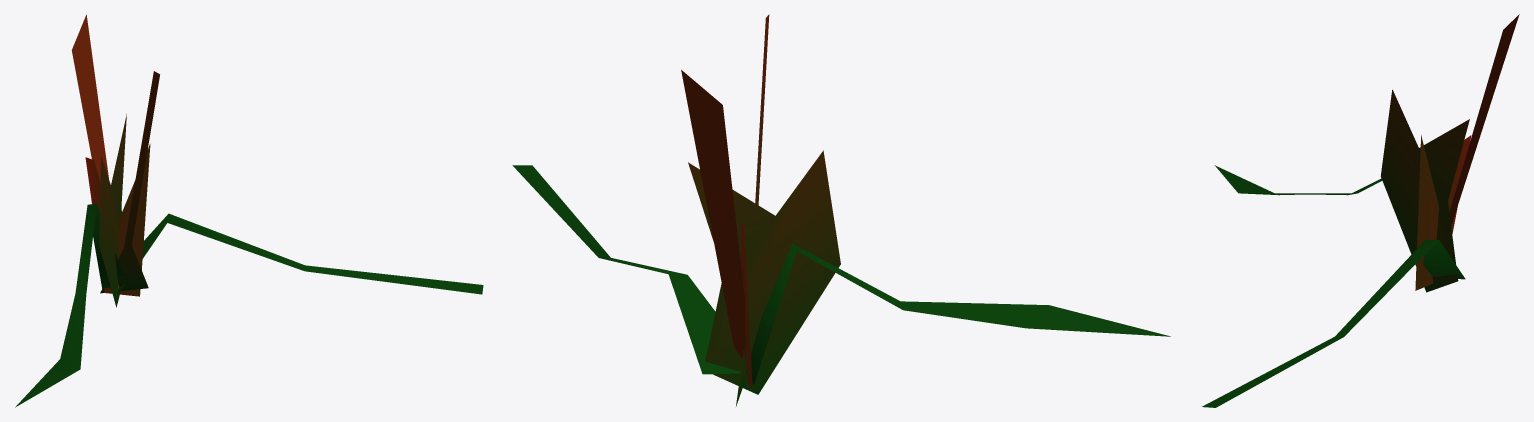
The model's file is scpho_Var5_LOD0.fbx.
3 renders of one model, left to right at view 1: azimuth 30°, elevation 25°; view 2: azimuth 150°, elevation 25°; view 3: azimuth 270°, elevation 25°, orthographic. The views are drawn at different scales.
Parts seen in each view (by area): view 1: _63bc_Var5_LOD0; view 2: _63bc_Var5_LOD0; view 3: _63bc_Var5_LOD0.
Part boxes in pixels (x1,y1,x2,y2): _63bc_Var5_LOD0: (15, 14, 483, 407); _63bc_Var5_LOD0: (512, 14, 1170, 406); _63bc_Var5_LOD0: (1202, 14, 1519, 407).
Bounding box in the file's own units: 13.72 × 7.25 × 7.33.
